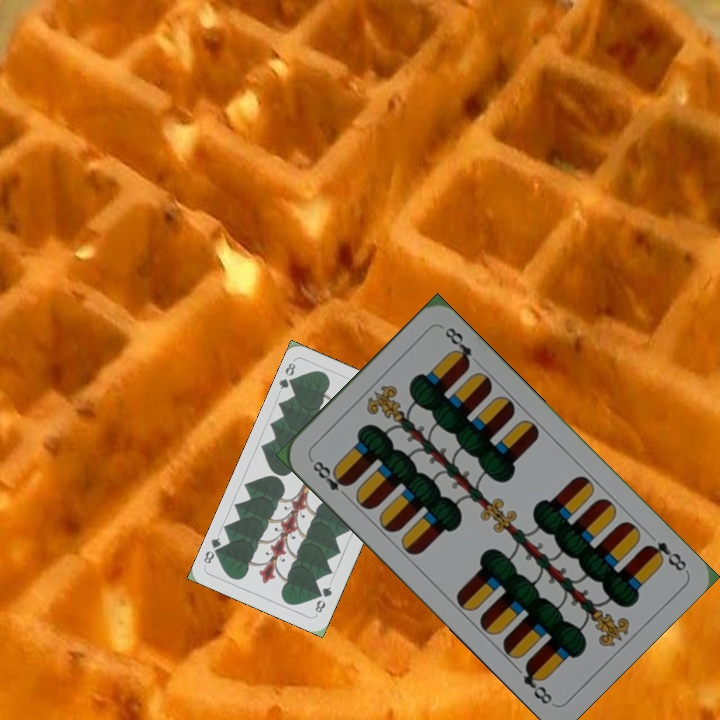E8: (306, 454, 353, 502), (640, 537, 689, 574)
G8: (275, 358, 300, 392), (311, 582, 335, 616)
